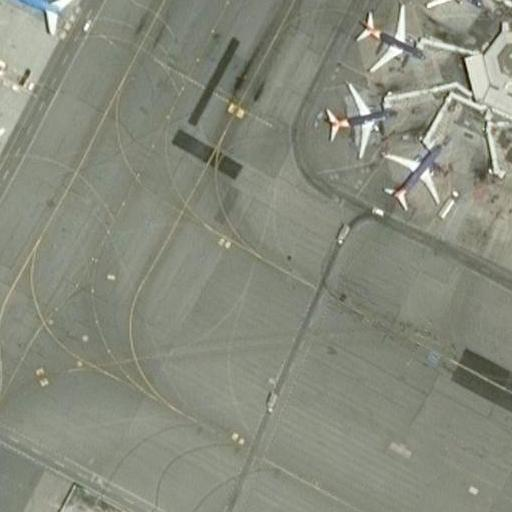Aircraft: (0, 0, 78, 55), (0, 61, 7, 177)
